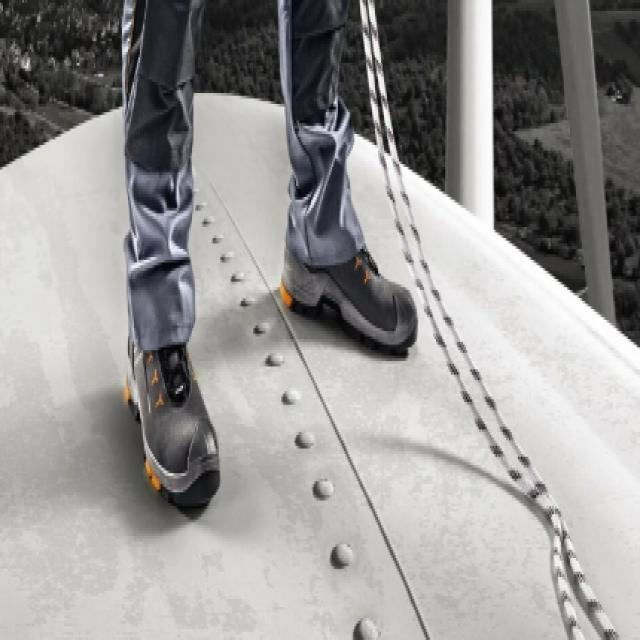shoes: (114, 116, 420, 522)
